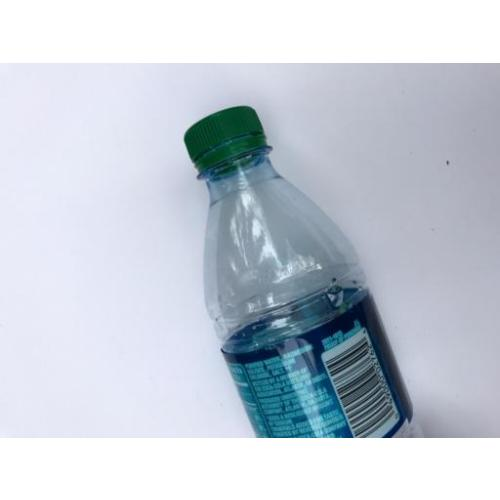plastic: (184, 109, 427, 435)
